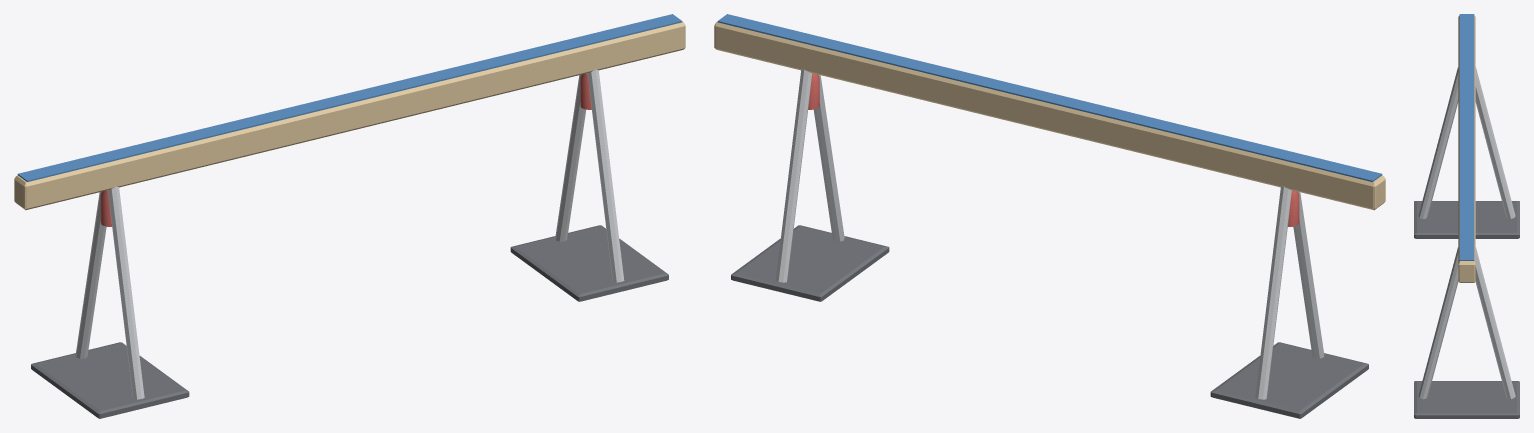
File: community-sports-hall-and-changing-rooms-balance-beam-75e97b3d__35101.glb
3 views of the same model, side by side, from view 1: azimuth 30°, elevation 25°; view 2: azimuth 150°, elevation 25°; view 3: azimuth 270°, elevation 25° (orthographic). The views are drawn at different scales.
Parts seen in each view (by area): view 1: balance-beam; view 2: balance-beam; view 3: balance-beam.
Boxes of the visible parts, x1=… form: balance-beam: x1=14, y1=14, x2=685, y2=418; balance-beam: x1=714, y1=14, x2=1385, y2=418; balance-beam: x1=1414, y1=14, x2=1519, y2=418.
Bounding box in the file's own units: 4 × 1.32 × 0.7198.
